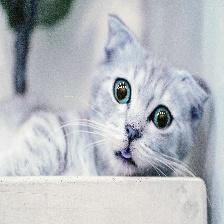kedo: (1, 14, 210, 176)
